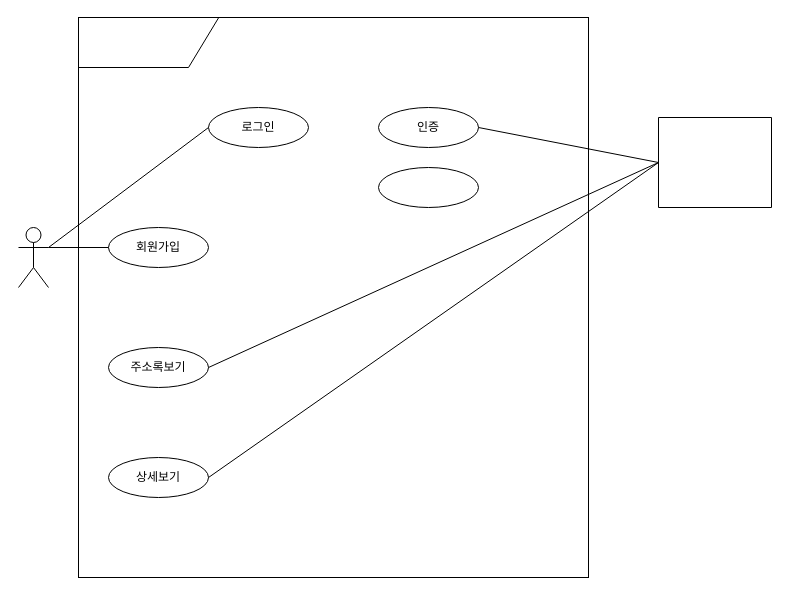
This 789x595 diagram has some shape labels left out. The shapes that lost their labels are listed below. From the top down, each one's box as (x1, y1, x2, y2) in pixels, then its label:
(658, 116, 772, 208): DB
(378, 166, 478, 208): 로그인실패
(18, 226, 48, 288): 이용자
